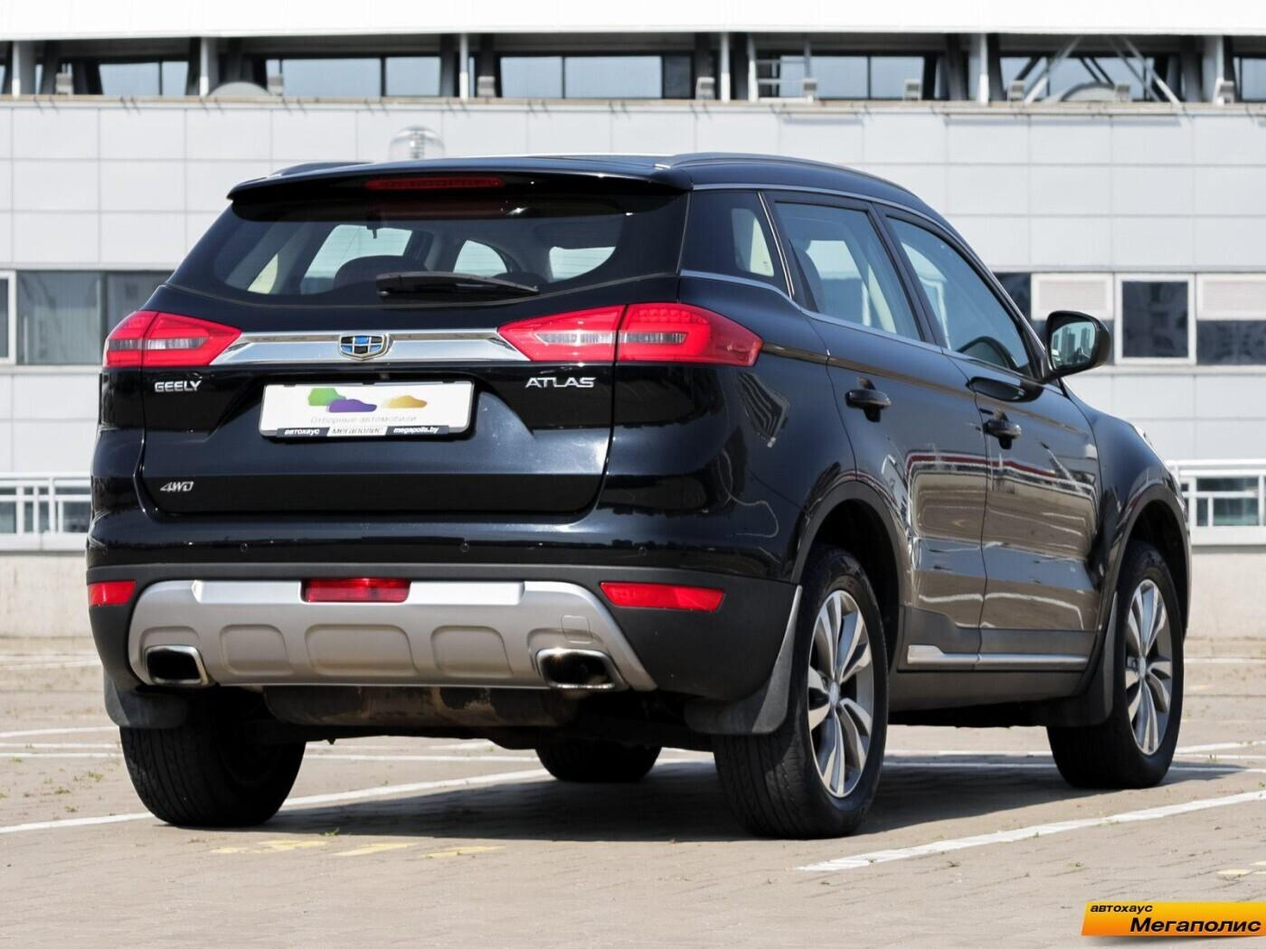Atlas_2016-2023: (81, 150, 1205, 830)
